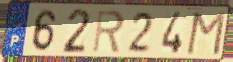2: (61, 8, 92, 55), (126, 10, 156, 54)
4: (160, 11, 185, 56)
6: (31, 8, 59, 53)
M: (184, 10, 227, 57)
R: (91, 9, 126, 54)
